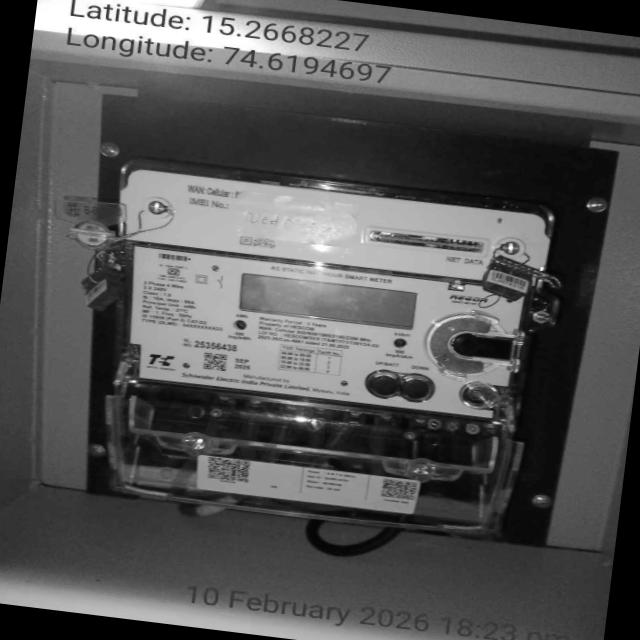meter: (93, 164, 568, 436)
